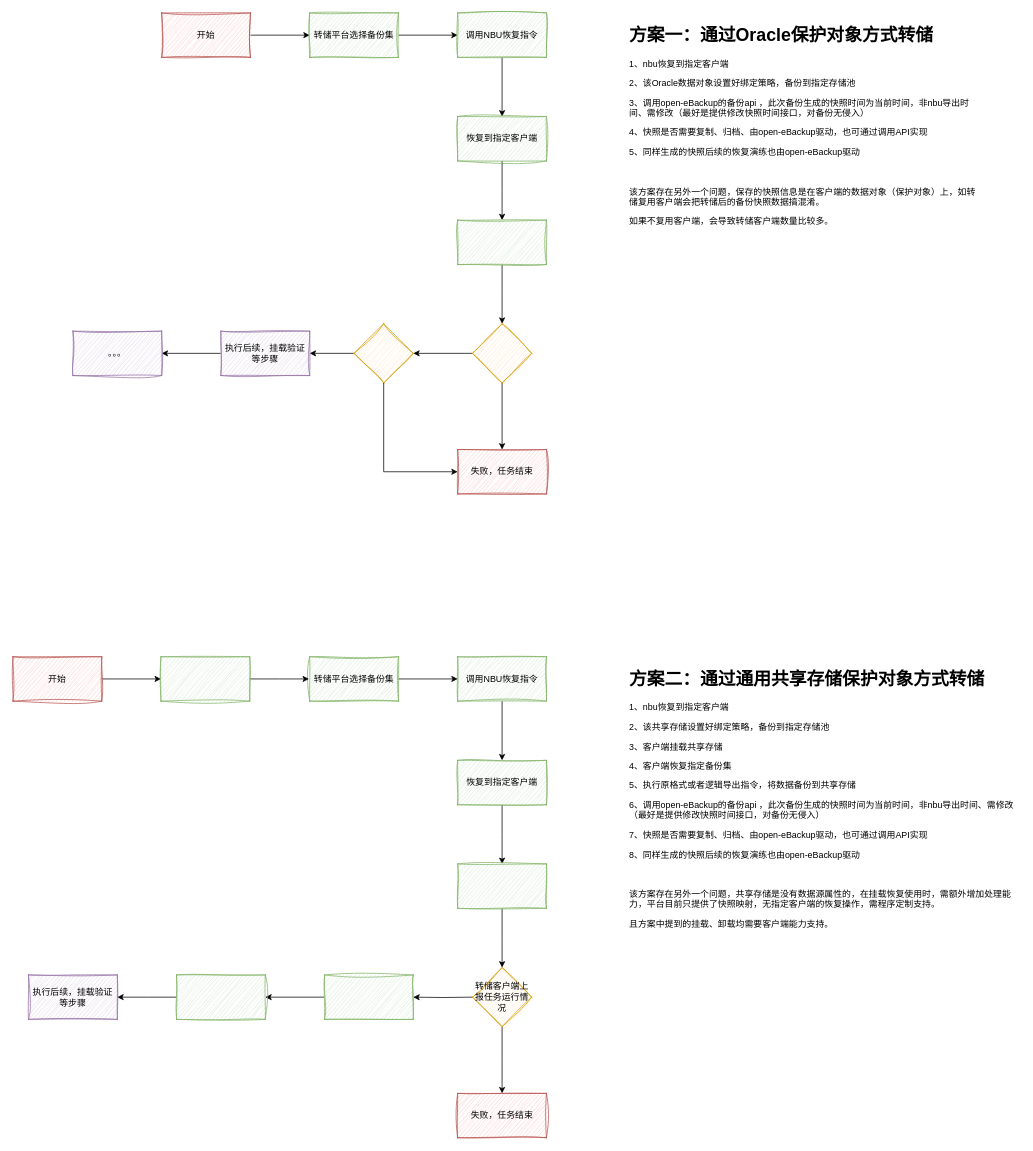
Some shapes in this 1033 by 1151 pixel diagram are drawn without their labels. Each missing label, with the centre of its shape:
"任务成功，执行卸载操作" goes at point (368, 996).
"成功，检查快照是否存在" goes at point (383, 353).
"执行Oracle备份指令，将数据备份NFS共享存储" goes at point (501, 885).
"挂载NFS共享存储" goes at point (205, 678).
"监听备份任务运行情况" goes at point (502, 353).
"调用API生成快照" goes at point (220, 996).
"通过API发起客户端上的Oracle备份" goes at point (501, 242).
